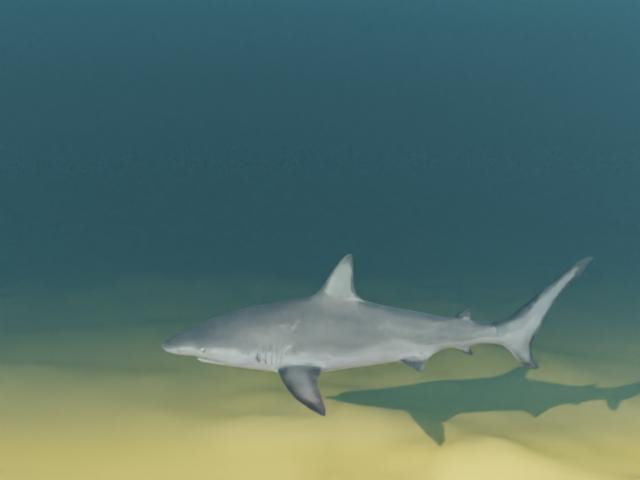Carribean Shark.001: (161, 253, 592, 416)
